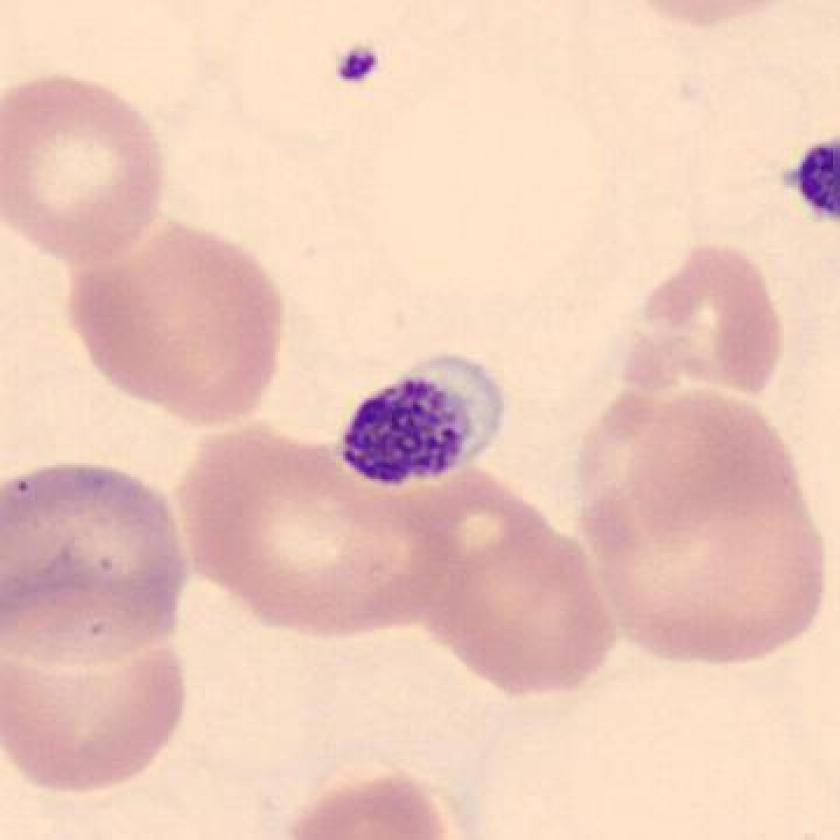platelets: (330, 346, 519, 496), (318, 27, 398, 105)
